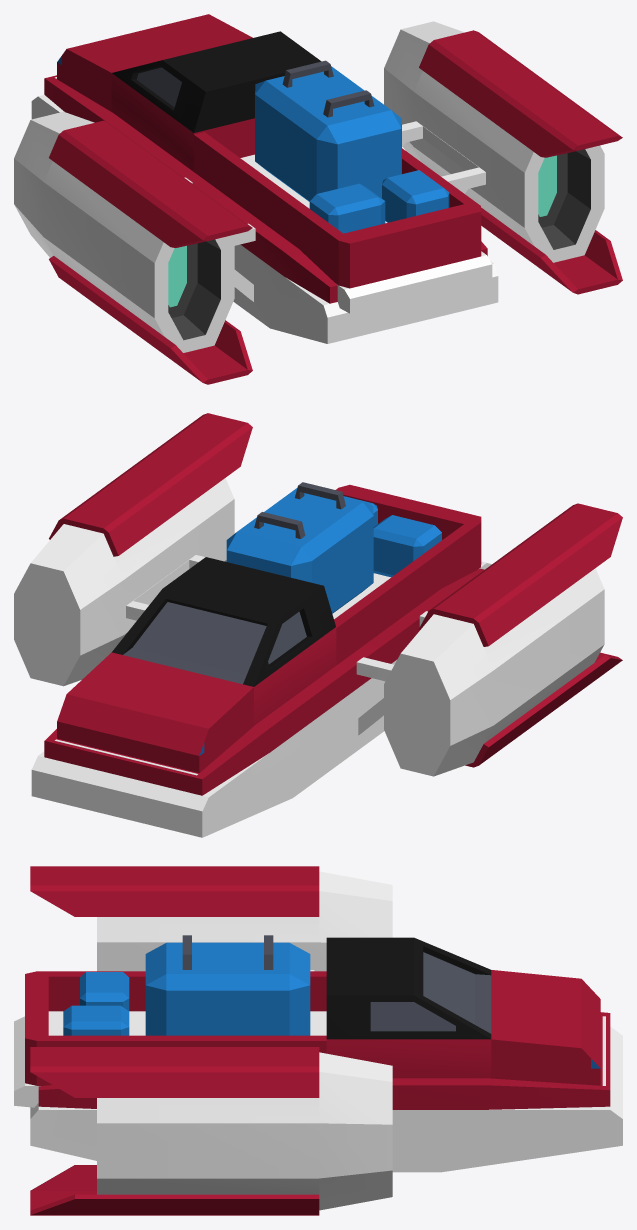
Rendered from flatbed.fbx.
3 views of the same model, one above another, from view 1: azimuth 30°, elevation 25°; view 2: azimuth 150°, elevation 25°; view 3: azimuth 270°, elevation 25° (orthographic).
Visible parts, largest first — view 1: engine_high_7, engine_high_8, trunk_bed_0, windshield_default_1, block_rounded_4, trunk_sports%_3, hood_default_0, trunk_sports%_4, block_rounded_6, block_rounded_5, detail_rollbar_2, detail_roofRails%_8 (+1 smaller); view 2: engine_high_7, engine_high_8, trunk_sports%_4, windshield_default_1, hood_default_0, block_rounded_4, trunk_bed_0, block_rounded_6, trunk_sports%_3, detail_roofRails%_8, detail_rollbar_3, detail_rollbar_2; view 3: engine_high_8, engine_high_7, windshield_default_1, trunk_sports%_4, block_rounded_4, hood_default_0, trunk_bed_0, trunk_sports%_3, block_rounded_5, block_rounded_6, detail_roofRails%_8.
Part boxes in pixels (box(x1,y1,x2,y2)): engine_high_7: box(14, 111, 252, 384); engine_high_8: box(384, 21, 622, 294); trunk_bed_0: box(194, 132, 492, 313); windshield_default_1: box(111, 31, 321, 171); block_rounded_4: box(255, 66, 401, 201); trunk_sports%_3: box(214, 196, 498, 343); hood_default_0: box(54, 14, 252, 111); trunk_sports%_4: box(31, 75, 225, 198); block_rounded_6: box(309, 183, 385, 233); block_rounded_5: box(382, 170, 449, 222); detail_rollbar_2: box(402, 121, 485, 193); detail_roofRails%_8: box(282, 60, 374, 117); engine_high_7: box(384, 503, 622, 776); engine_high_8: box(14, 413, 252, 686); trunk_sports%_4: box(31, 642, 383, 837); windshield_default_1: box(112, 557, 336, 725); hood_default_0: box(54, 652, 253, 775); block_rounded_4: box(226, 488, 373, 613); trunk_bed_0: box(332, 484, 491, 665); block_rounded_6: box(373, 515, 441, 577); trunk_sports%_3: box(369, 568, 484, 731); detail_roofRails%_8: box(254, 482, 345, 538); detail_rollbar_3: box(356, 611, 427, 735); detail_rollbar_2: box(126, 555, 205, 620); engine_high_8: box(30, 1047, 392, 1215); engine_high_7: box(30, 866, 392, 971); windshield_default_1: box(326, 937, 491, 1078); trunk_sports%_4: box(392, 1012, 622, 1172); block_rounded_4: box(145, 942, 310, 1035); hood_default_0: box(491, 970, 605, 1085); trunk_bed_0: box(14, 971, 326, 1107); trunk_sports%_3: box(30, 1085, 96, 1160); block_rounded_5: box(63, 1005, 129, 1035); block_rounded_6: box(80, 972, 129, 1010); detail_roofRails%_8: box(182, 935, 273, 969).
Size of the model in its own units: 31.61 by 12.9 by 37.
